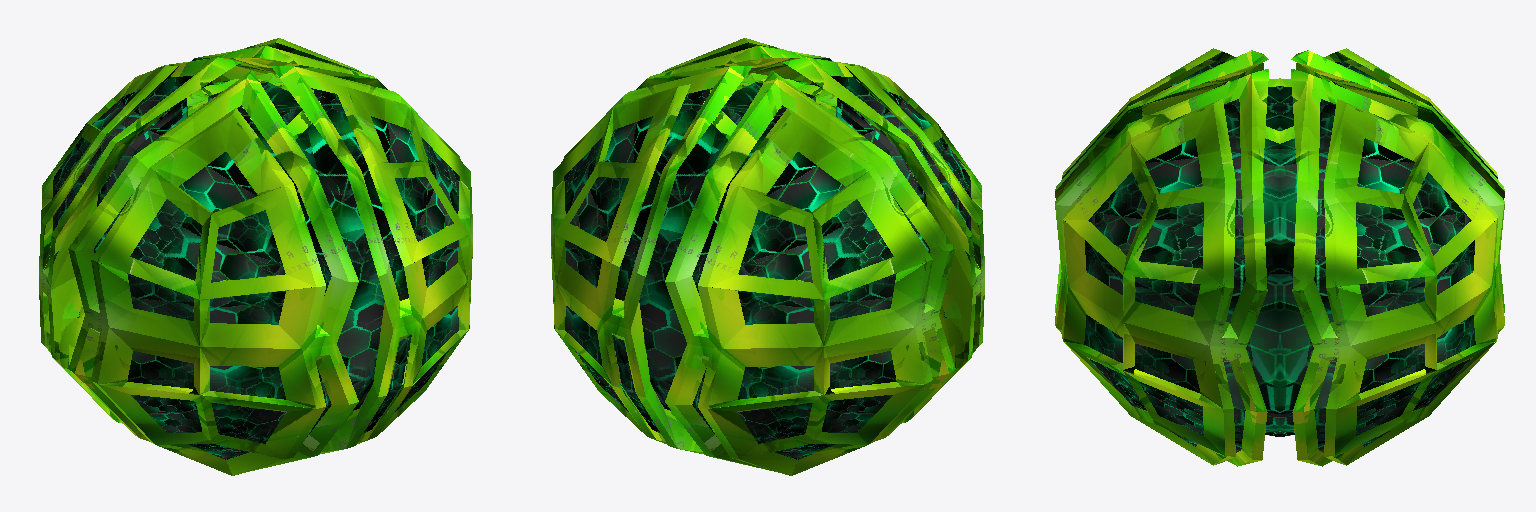
3 renders of one model, left to right at view 1: azimuth 30°, elevation 25°; view 2: azimuth 150°, elevation 25°; view 3: azimuth 270°, elevation 25°, orthographic.
Visible parts, largest first — view 1: Roundcube.002_Roundcube.017; view 2: Roundcube.002_Roundcube.017; view 3: Roundcube.002_Roundcube.017.
Boxes of the visible parts, box(x1,y1,x2,y2) form: Roundcube.002_Roundcube.017: box(39, 38, 472, 475); Roundcube.002_Roundcube.017: box(551, 38, 984, 475); Roundcube.002_Roundcube.017: box(1055, 48, 1504, 466).
Size of the model in its own units: 1.18 by 1.13 by 1.18.
Materials: 1 (1 with a texture image).